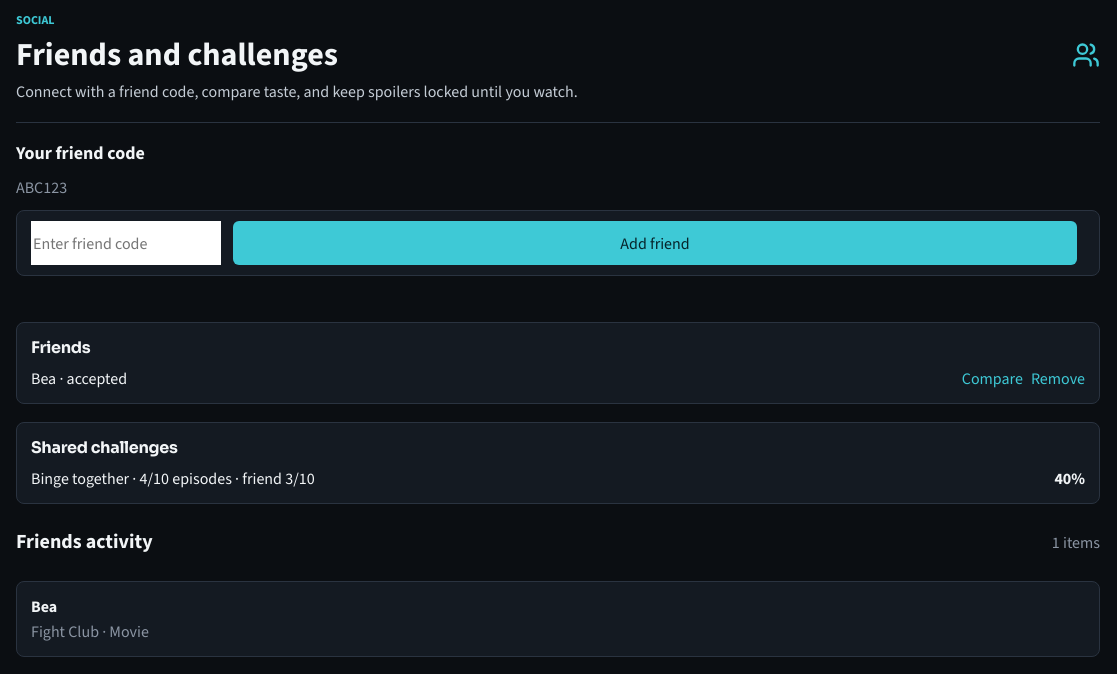
Test: SocialPage › submits a friend code
Type "xyz999" into the field with test id "friend-code-input" at [126, 243], box [31, 221, 221, 265]
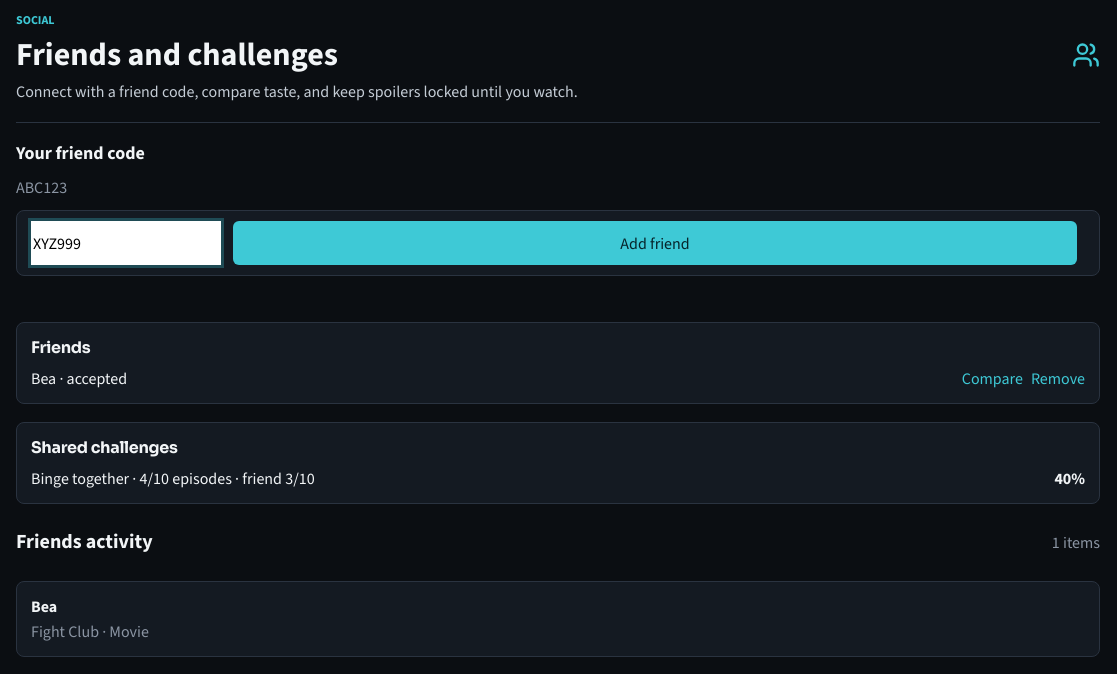
Click the button with test id "friend-code-submit" at [655, 243], box [233, 221, 1077, 265]
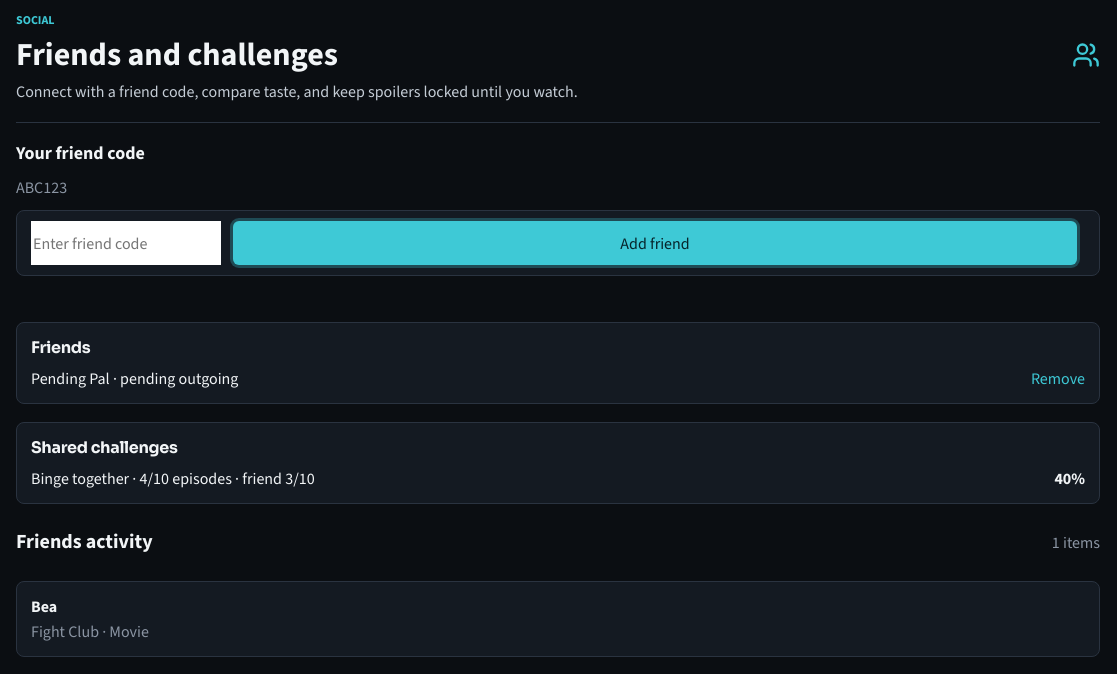
Expected: the element with test id "friends-list" shows "Pending Pal", [31, 368, 110, 389]
